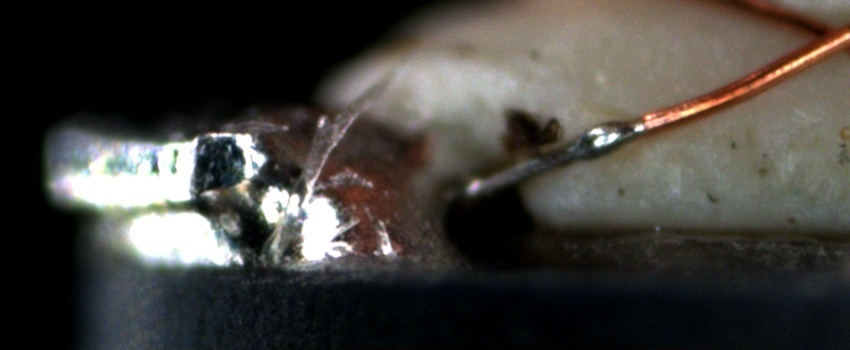CL: (783, 6, 847, 64)
TS: (462, 120, 646, 200)
TTCW: (461, 98, 706, 204)
